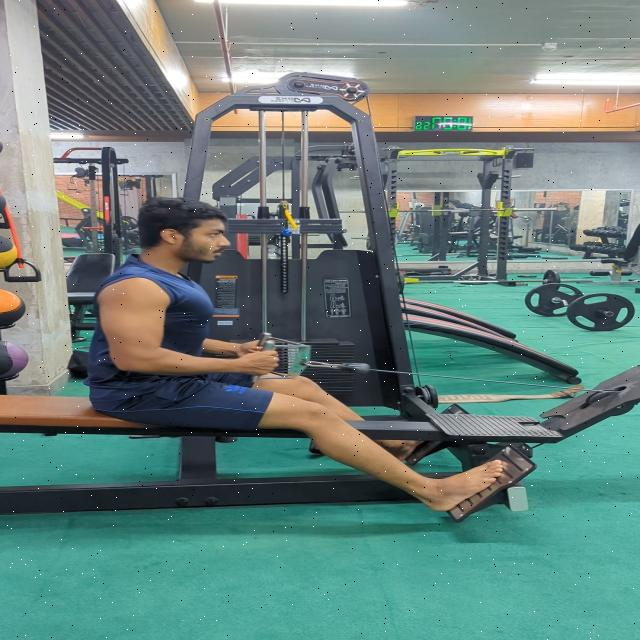Normal_RowingMachineExercise: (80, 196, 506, 513)
